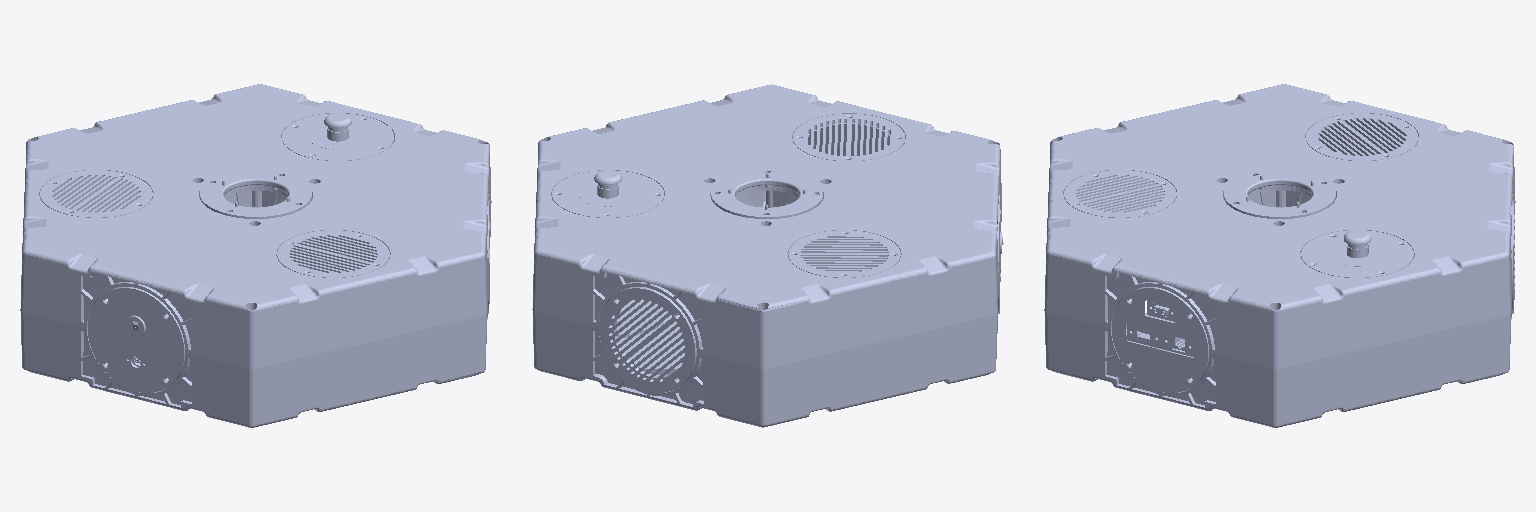
robot.urdf — opendog:
<robot name="opendog">

<gazebo>
  <plugin name="gazebo_ros_control" filename="libgazebo_ros_control.so">
   <robotNamespace>/opendog</robotNamespace>
  </plugin>
</gazebo>

  <link name="base_link">
    <inertial>
      <origin xyz="0.0146925753707255 -2.32783997689001E-07 -0.0620003566767632" rpy="0 0 0" />
      <mass value="7.50050303907628" />
      <inertia
        ixx="0.0329067626307138"
        ixy="0.0145256752484318"
        ixz="-0.00262898937356677"
        iyy="0.324694201481025"
        iyz="8.6440436464913E-08"
        izz="0.3401479131296" />
    </inertial>
    <visual>
      <origin xyz="0 0 0" rpy="0 0 0" />
      <geometry>
        <mesh filename="meshes/base_link.STL" />
      </geometry>
      <material name="">
        <color rgba="0.792156862745098 0.819607843137255 0.933333333333333 1" />
      </material>
    </visual>
    <collision>
      <origin
        xyz="0 0 0"
        rpy="0 0 0" />
      <geometry>
        <mesh filename="meshes/base_link.STL" />
      </geometry>
    </collision>
  </link>

  <link name="lf_hip">
    <inertial>
      <origin xyz="0.206139391007352 0.0113727026365967 -0.0186282798260052" rpy="0 0 0" />
      <mass value="1.29407279885193" />
      <inertia
        ixx="0.00300672363695354"
        ixy="0.000279956457563162"
        ixz="0.00219380954236559"
        iyy="0.00473624583525706"
        iyz="-0.000278492304960671"
        izz="0.00444577132964834" />
    </inertial>
    <visual>
      <origin xyz="0 0 0" rpy="0 0 0" />
      <geometry>
        <mesh filename="meshes/lf_hip.STL" />
      </geometry>
      <material name="">
        <color rgba="0.792156862745098 0.819607843137255 0.933333333333333 1" />
      </material>
    </visual>
    <collision>
      <origin xyz="0 0 0" rpy="0 0 0" />
      <geometry>
        <mesh filename="meshes/lf_hip.STL" />
      </geometry>
    </collision>
  </link>
  
  <joint name="lf_hip_joint" type="revolute">
    <origin
      xyz="0.12725 0.11015 -0.0402500002980233"
      rpy="-0.0312716864214877 -2.31194431024223E-16 0" />
    <parent link="base_link" />
    <child link="lf_hip" />
    <axis xyz="1 0 0" />
    <limit effort="30" velocity="1.0" lower="-0.2" upper="0.2" />
    <dynamics damping="0.7" friction="1.0" />
  </joint>

  <link name="lf_upperleg">
    <inertial>
      <origin xyz="-0.14026071186531 -0.145897350328308 -0.0866287296834724" rpy="0 0 0" />
      <mass value="1.99709298869724" />
      <inertia
        ixx="0.0178522819140482"
        ixy="-0.000417486136867743"
        ixz="-0.000174817808114832"
        iyy="0.00725617205054363"
        iyz="0.000753747543548694"
        izz="0.0140200357809471" />
    </inertial>
    <visual>
      <origin xyz="0 0 0" rpy="0 0 0" />
      <geometry>
        <mesh filename="meshes/lf_upperleg.STL" />
      </geometry>
      <material name="">
        <color rgba="0.792156862745098 0.819607843137255 0.933333333333333 1" />
      </material>
    </visual>
    <collision>
      <origin xyz="0 0 0" rpy="0 0 0" />
      <geometry>
        <mesh filename="meshes/lf_upperleg.STL" />
      </geometry>
    </collision>
  </link>
  
  <joint name="lf_upperleg_joint" type="revolute">
    <origin xyz="0.1875 -0.0067843 0" rpy="0.53639 5.5511E-16 -1.5708" />
    <parent link="lf_hip" />
    <child link="lf_upperleg" />
    <axis xyz="-1 0 0" />
    <dynamics damping="1.0" friction="1.0"/>
    <limit effort="30" velocity="1.0" lower="-0.2" upper="0.2" />
    <dynamics damping="0.7" friction="1.0" />
  </joint>

  <link name="lf_lowerleg">
    <inertial>
      <origin xyz="-0.0841961666836097 -0.111586779603519 -0.103991209798406" rpy="0 0 0" />
      <mass value="0.517872437395086" />
      <inertia
        ixx="0.00480929241655381"
        ixy="3.22137831183176E-05"
        ixz="2.82581039098233E-05"
        iyy="0.00230896942537742"
        iyz="-0.00238100033014549"
        izz="0.00250151457928357" />
    </inertial>
    <visual>
      <origin xyz="0 0 0" rpy="0 0 0" />
      <geometry>
        <mesh filename="meshes/lf_lowerleg.STL" />
      </geometry>
      <material name="">
        <color rgba="0.792156862745098 0.819607843137255 0.933333333333333 1" />
      </material>
    </visual>
    <collision>
      <origin xyz="0 0 0" rpy="0 0 0" />
      <geometry>
        <mesh filename="meshes/lf_lowerleg.STL" />
      </geometry>
       <surface>
        <friction>
          <ode>
            <mu>100.0</mu>
            <mu2>100.0</mu2>
          </ode>
        </friction>
      </surface>
    </collision>
  </link>

  <joint name="lf_lowerleg_joint" type="revolute">
    <origin xyz="-0.036327 -0.31067 -0.17972" rpy="1.2469 -6.6613E-16 1.36E-15" />
    <parent link="lf_upperleg" />
    <child link="lf_lowerleg" />
    <axis xyz="-1 0 0" />
    <limit effort="30" velocity="1.0" lower="-0.2" upper="0.2" />
    <dynamics damping="0.7" friction="1.0" />
  </joint>

  <link name="rf_hip">
    <inertial>
      <origin xyz="0.147048151306843 -0.0117894282365432 -0.0186949790750277" rpy="0 0 0" />
      <mass value="1.31260778257106" />
      <inertia
        ixx="0.00297889838902065"
        ixy="0.000632756157402181"
        ixz="-0.00237042295251855"
        iyy="0.00528682887814262"
        iyz="0.00027007218401832"
        izz="0.00504189542831131" />
    </inertial>
    <visual>
      <origin xyz="0 0 0" rpy="0 0 0" />
      <geometry>
        <mesh filename="meshes/rf_hip.STL" />
      </geometry>
      <material name="">
        <color rgba="0.792156862745098 0.819607843137255 0.933333333333333 1" />
      </material>
    </visual>
    <collision>
      <origin xyz="0 0 0" rpy="0 0 0" />
      <geometry>
        <mesh filename="meshes/rf_hip.STL" />
      </geometry>
    </collision>
  </link>

  <joint name="rf_hip_joint" type="revolute">
    <origin xyz="0.12725 -0.11015 -0.04025" rpy="-0.0024962 -2.3119E-16 0" />
    <parent link="base_link" />
    <child link="rf_hip" />
    <axis xyz="1 0 0" />
    <limit effort="30" velocity="1.0" lower="-0.2" upper="0.2" />
    <dynamics damping="0.7" friction="1.0" />
  </joint>

  <link name="rf_upperleg">
    <inertial>
      <origin xyz="-0.133628467398785 -0.162488031463387 0.0486169366921988" rpy="0 0 0" />
      <mass value="1.97849427273776" />
      <inertia
        ixx="0.0177862556152254"
        ixy="-0.000449816128990764"
        ixz="6.84609806285059E-05"
        iyy="0.0079887226695027"
        iyz="-0.00227974326372488"
        izz="0.0131967613985927" />
    </inertial>
    <visual>
      <origin xyz="0 0 0" rpy="0 0 0" />
      <geometry>
        <mesh filename="meshes/rf_upperleg.STL" />
      </geometry>
      <material name="">
        <color rgba="0.792156862745098 0.819607843137255 0.933333333333333 1" />
      </material>
    </visual>
    <collision>
      <origin xyz="0 0 0" rpy="0 0 0" />
      <geometry>
        <mesh filename="meshes/rf_upperleg.STL" />
      </geometry>
    </collision>
  </link>

  <joint name="rf_upperleg_joint" type="revolute">
    <origin xyz="0.1875 0 0" rpy="2.37324114934713 1.94289029309402E-16 1.5707963267949" />
    <parent link="rf_hip" />
    <child link="rf_upperleg" />
    <axis xyz="1 0 0" />
    <limit effort="30" velocity="1.0" lower="-0.2" upper="0.2" />
    <dynamics damping="0.7" friction="1.0" />
  </joint>

  <link name="rf_lowerleg">
    <inertial>
      <origin xyz="-0.0942678335224335 -0.11438115082609 0.100958934418855" rpy="0 0 0" />
      <mass value="0.517767036542794" />
      <inertia
        ixx="0.00480685472285392"
        ixy="3.29278427633523E-05"
        ixz="-2.73356037554584E-05"
        iyy="0.00217881170361675"
        iyz="0.00237102005421024"
        izz="0.00262923241964085" />
    </inertial>
    <visual>
      <origin xyz="0 0 0" rpy="0 0 0" />
      <geometry>
        <mesh filename="meshes/rf_lowerleg.STL" />
      </geometry>
      <material name="">
        <color rgba="0.792156862745098 0.819607843137255 0.933333333333333 1" />
      </material>
    </visual>
    <collision>
      <origin xyz="0 0 0" rpy="0 0 0" />
      <geometry>
        <mesh filename="meshes/rf_lowerleg.STL" />
      </geometry>
       <surface>
        <friction>
          <ode>
            <mu>100.0</mu>
            <mu2>100.0</mu2>
          </ode>
        </friction>
      </surface>
    </collision>
  </link>

  <joint name="rf_lowerleg_joint" type="revolute">
    <origin xyz="-0.0194699194772098 -0.3449998 0.0989375976332662" rpy="-1.05391222064566 1.11022302462516E-16 4.44089209850063E-16" />
    <parent link="rf_upperleg" />
    <child link="rf_lowerleg" />
    <axis xyz="1 0 0" />
    <limit effort="30" velocity="1.0" lower="-0.2" upper="0.2" />
    <dynamics damping="0.7" friction="1.0" />
  </joint>

  <link name="lb_hip">
    <inertial>
      <origin xyz="-0.1388606089949 0.0113727026302812 -0.0186282798249506" rpy="0 0 0" />
      <mass value="1.2940727989479" />
      <inertia
        ixx="0.00300672363731876"
        ixy="0.000279956457431885"
        ixz="0.00219380954241839"
        iyy="0.00473624583534201"
        iyz="-0.000278492304808429"
        izz="0.00444577133007972" />
    </inertial>
    <visual>
      <origin xyz="0 0 0" rpy="0 0 0" />
      <geometry>
        <mesh filename="meshes/lb_hip.STL" />
      </geometry>
      <material name="">
        <color rgba="0.792156862745098 0.819607843137255 0.933333333333333 1" />
      </material>
    </visual>
    <collision>
      <origin xyz="0 0 0" rpy="0 0 0" />
      <geometry>
        <mesh filename="meshes/lb_hip.STL" />
      </geometry>
    </collision>
  </link>

  <joint name="lb_hip_joint" type="revolute">
    <origin xyz="-0.09275 0.11015 -0.04025" rpy="-0.013144 -2.3119E-16 0" />
    <parent link="base_link" />
    <child link="lb_hip" />
    <axis xyz="1 0 0" />
    <limit effort="30" velocity="1.0" lower="-0.2" upper="0.2" />
    <dynamics damping="0.7" friction="1.0" />
  </joint>

  <link name="lb_upperleg">
    <inertial>
      <origin xyz="-0.155362482214265 -0.162561779303306 -0.0486234661189762" rpy="0 0 0" />
      <mass value="1.99709298565448" />
      <inertia
        ixx="0.0178522818686579"
        ixy="-0.000447434633476266"
        ixz="-6.8250948714299E-05"
        iyy="0.00800967976641392"
        iyz="0.00225765032495757"
        izz="0.0132665280240321" />
    </inertial>
    <visual>
      <origin xyz="0 0 0" rpy="0 0 0" />
      <geometry>
        <mesh filename="meshes/lb_upperleg.STL" />
      </geometry>
      <material name="">
        <color rgba="0.792156862745098 0.819607843137255 0.933333333333333 1" />
      </material>
    </visual>
    <collision>
      <origin xyz="0 0 0" rpy="0 0 0" />
      <geometry>
        <mesh filename="meshes/lb_upperleg.STL" />
      </geometry>
    </collision>
  </link>

  <joint name="lb_upperleg_joint" type="revolute">
    <origin xyz="-0.1575 -0.0218860343925495 0" rpy="0.853532347704987 1.69309011255336E-15 -1.5707963267949" />
    <parent link="lb_hip" />
    <child link="lb_upperleg" />
    <axis xyz="-1 0 0" />
    <limit effort="30" velocity="1.0" lower="-0.2" upper="0.2" />
    <dynamics damping="0.7" friction="1.0" />
  </joint>
  
  <link name="lb_lowerleg">
    <inertial>
      <origin xyz="-0.0929078835580175 -0.122424353782922 -0.0909838234681657" rpy="0 0 0" />
      <mass value="0.51787240839959" />
      <inertia
        ixx="0.00480929178404235"
        ixy="3.51469446486784E-05"
        ixz="2.45137702500061E-05"
        iyy="0.00178682948739438"
        iyz="-0.00230130305704765"
        izz="0.00302365388096736" />
    </inertial>
    <visual>
      <origin xyz="0 0 0" rpy="0 0 0" />
      <geometry>
        <mesh filename="meshes/lb_lowerleg.STL" />
      </geometry>
      <material name="">
        <color rgba="0.792156862745098 0.819607843137255 0.933333333333333 1" />
      </material>
    </visual>
    <collision>
      <origin xyz="0 0 0" rpy="0 0 0" />
      <geometry>
        <mesh filename="meshes/lb_lowerleg.STL" />
      </geometry>
       <surface>
        <friction>
          <ode>
            <mu>100.0</mu>
            <mu2>100.0</mu2>
          </ode>
        </friction>
      </surface>
    </collision>
  </link>

  <joint name="lb_lowerleg_joint" type="revolute">
    <origin xyz="-0.0427168001472368 -0.3449998 -0.0989375976332639" rpy="1.02808696809058 1.17961196366423E-15 0" />
    <parent link="lb_upperleg" />
    <child link="lb_lowerleg" />
    <axis xyz="-1 0 0" />
    <limit effort="30" velocity="1.0" lower="-0.2" upper="0.2" />
    <dynamics damping="0.7" friction="1.0" />
  </joint>

  <link name="rb_hip">
    <inertial>
      <origin xyz="-0.197951848727426 -0.011789428219475 -0.0186949790745794" rpy="0 0 0" />
      <mass value="1.31260778161674" />
      <inertia
        ixx="0.00297889838847175"
        ixy="0.000632756156394369"
        ixz="-0.00237042295242676"
        iyy="0.0052868288763741"
        iyz="0.000270072183992474"
        izz="0.00504189542537898" />
    </inertial>
    <visual>
      <origin xyz="0 0 0" rpy="0 0 0" />
      <geometry>
        <mesh
          filename="meshes/rb_hip.STL" />
      </geometry>
      <material name="">
        <color rgba="0.792156862745098 0.819607843137255 0.933333333333333 1" />
      </material>
    </visual>
    <collision>
      <origin xyz="0 0 0" rpy="0 0 0" />
      <geometry>
        <mesh filename="meshes/rb_hip.STL" />
      </geometry>
    </collision>
  </link>

  <joint name="rb_hip_joint" type="revolute">
    <origin xyz="-0.09275 -0.11015 -0.0402500002980231" rpy="0.0264641395628229 -2.31194431024223E-16 0" />
    <parent link="base_link" />
    <child link="rb_hip" />
    <axis xyz="1 0 0" />
    <limit effort="30" velocity="1.0" lower="-0.2" upper="0.2" />
    <dynamics damping="0.7" friction="1.0" />
  </joint>

  <link name="rb_upperleg">
    <inertial>
      <origin xyz="-0.133628467244866 -0.162488031755644 0.0486169350227676" rpy="0 0 0" />
      <mass value="1.97849425051924" />
      <inertia
        ixx="0.0177862553816508"
        ixy="-0.000449816152751435"
        ixz="6.84610936050734E-05"
        iyy="0.00798872258305596"
        iyz="-0.00227974318574354"
        izz="0.0131967612321745" />
    </inertial>
    <visual>
      <origin xyz="0 0 0" rpy="0 0 0" />
      <geometry>
        <mesh filename="meshes/rb_upperleg.STL" />
      </geometry>
      <material name="">
        <color rgba="0.792156862745098 0.819607843137255 0.933333333333333 1" />
      </material>
    </visual>
    <collision>
      <origin xyz="0 0 0" rpy="0 0 0" />
      <geometry>
        <mesh filename="meshes/rb_upperleg.STL" />
      </geometry>
    </collision>
  </link>

  <joint name="rb_upperleg_joint" type="revolute">
    <origin xyz="-0.1575 0 0" rpy="2.21660126749357 1.97064586870965E-15 1.5707963267949" />
    <parent link="rb_hip" />
    <child link="rb_upperleg" />
    <axis xyz="1 0 0" />
    <limit effort="30" velocity="1.0" lower="-0.2" upper="0.2" />
    <dynamics damping="0.7" friction="1.0" />
  </joint>

  <link name="rb_lowerleg">
    <inertial>
      <origin xyz="-0.106105013771209 -0.121605431885754 0.092129655679019" rpy="0 0 0" />
      <mass value="0.517767043602124" />
      <inertia
        ixx="0.00480685478586608"
        ixy="3.48785418068089E-05"
        ixz="-2.47987883971276E-05"
        iyy="0.00182797294270112"
        iyz="0.00231097886469285"
        izz="0.00298007124712522" />
    </inertial>
    <visual>
      <origin xyz="0 0 0" rpy="0 0 0" />
      <geometry>
        <mesh filename="meshes/rb_lowerleg.STL" />
      </geometry>
      <material name="">
        <color rgba="0.792156862745098 0.819607843137255 0.933333333333333 1" />
      </material>
    </visual>
    <collision>
      <origin xyz="0 0 0" rpy="0 0 0" />
      <geometry>
        <mesh filename="meshes/rb_lowerleg.STL" />
      </geometry>
       <surface>
        <friction>
          <ode>
            <mu>100.0</mu>
            <mu2>100.0</mu2>
          </ode>
        </friction>
      </surface>
    </collision>
  </link>

  <joint name="rb_lowerleg_joint" type="revolute">
    <origin xyz="-0.00763273689589838 -0.344999799999999 0.0989375976332641" rpy="-0.978531986560699 -1.70696790036118E-15 -1.22124532708767E-15" />
    <parent link="rb_upperleg" />
    <child link="rb_lowerleg" />
    <axis xyz="1 0 0" />
    <limit effort="30" velocity="1.0" lower="-0.2" upper="0.2" />
    <dynamics damping="0.7" friction="1.0" />
  </joint>

<!-- Transmissions for gazebo implementation -->
<transmission name="lb_hip_trans">
  <type>transmission_interface/SimpleTransmission</type>
  <joint name="lb_hip_joint">
    <hardwareInterface>hardware_interface/EffortJointInterface</hardwareInterface>
  </joint>
  <actuator name="lb_hip_motor">
    <mechanicalReduction>1</mechanicalReduction>
    <hardwareInterface>hardware_interface/EffortJointInterface</hardwareInterface>
  </actuator>
</transmission>
<transmission name="lb_upperleg_trans">
  <type>transmission_interface/SimpleTransmission</type>
  <joint name="lb_upperleg_joint">
    <hardwareInterface>hardware_interface/EffortJointInterface</hardwareInterface>
  </joint>
  <actuator name="lb_upperleg_motor">
    <mechanicalReduction>1</mechanicalReduction>
    <hardwareInterface>hardware_interface/EffortJointInterface</hardwareInterface>
  </actuator>
</transmission>
<transmission name="lb_lowerleg_trans">
  <type>transmission_interface/SimpleTransmission</type>
  <joint name="lb_lowerleg_joint">
    <hardwareInterface>hardware_interface/EffortJointInterface</hardwareInterface>
  </joint>
  <actuator name="lb_lowerleg_motor">
    <mechanicalReduction>1</mechanicalReduction>
    <hardwareInterface>hardware_interface/EffortJointInterface</hardwareInterface>
  </actuator>
</transmission>

<transmission name="lf_hip_trans">
  <type>transmission_interface/SimpleTransmission</type>
  <joint name="lf_hip_joint">
    <hardwareInterface>hardware_interface/EffortJointInterface</hardwareInterface>
  </joint>
  <actuator name="lf_hip_motor">
    <mechanicalReduction>1</mechanicalReduction>
    <hardwareInterface>hardware_interface/EffortJointInterface</hardwareInterface>
  </actuator>
</transmission>
<transmission name="lf_upperleg_trans">
  <type>transmission_interface/SimpleTransmission</type>
  <joint name="lf_upperleg_joint">
    <hardwareInterface>hardware_interface/EffortJointInterface</hardwareInterface>
  </joint>
  <actuator name="lf_upperleg_motor">
    <mechanicalReduction>1</mechanicalReduction>
    <hardwareInterface>hardware_interface/EffortJointInterface</hardwareInterface>
  </actuator>
</transmission>
<transmission name="lf_lowerleg_trans">
  <type>transmission_interface/SimpleTransmission</type>
  <joint name="lf_lowerleg_joint">
    <hardwareInterface>hardware_interface/EffortJointInterface</hardwareInterface>
  </joint>
  <actuator name="lf_lowerleg_motor">
    <mechanicalReduction>1</mechanicalReduction>
    <hardwareInterface>hardware_interface/EffortJointInterface</hardwareInterface>
  </actuator>
</transmission>

<transmission name="rb_hip_trans">
  <type>transmission_interface/SimpleTransmission</type>
  <joint name="rb_hip_joint">
    <hardwareInterface>hardware_interface/EffortJointInterface</hardwareInterface>
  </joint>
  <actuator name="rb_hip_motor">
    <mechanicalReduction>1</mechanicalReduction>
    <hardwareInterface>hardware_interface/EffortJointInterface</hardwareInterface>
  </actuator>
</transmission>
<transmission name="rb_upperleg_trans">
  <type>transmission_interface/SimpleTransmission</type>
  <joint name="rb_upperleg_joint">
    <hardwareInterface>hardware_interface/EffortJointInterface</hardwareInterface>
  </joint>
  <actuator name="rb_upperleg_motor">
    <mechanicalReduction>1</mechanicalReduction>
    <hardwareInterface>hardware_interface/EffortJointInterface</hardwareInterface>
  </actuator>
</transmission>
<transmission name="rb_lowerleg_trans">
  <type>transmission_interface/SimpleTransmission</type>
  <joint name="rb_lowerleg_joint">
    <hardwareInterface>hardware_interface/EffortJointInterface</hardwareInterface>
  </joint>
  <actuator name="rb_lowerleg_motor">
    <mechanicalReduction>1</mechanicalReduction>
    <hardwareInterface>hardware_interface/EffortJointInterface</hardwareInterface>
  </actuator>
</transmission>

<transmission name="rf_hip_trans">
  <type>transmission_interface/SimpleTransmission</type>
  <joint name="rf_hip_joint">
    <hardwareInterface>hardware_interface/EffortJointInterface</hardwareInterface>
  </joint>
  <actuator name="rf_hip_motor">
    <mechanicalReduction>1</mechanicalReduction>
    <hardwareInterface>hardware_interface/EffortJointInterface</hardwareInterface>
  </actuator>
</transmission>
<transmission name="rf_upperleg_trans">
  <type>transmission_interface/SimpleTransmission</type>
  <joint name="rf_upperleg_joint">
    <hardwareInterface>hardware_interface/EffortJointInterface</hardwareInterface>
  </joint>
  <actuator name="rf_upperleg_motor">
    <mechanicalReduction>1</mechanicalReduction>
    <hardwareInterface>hardware_interface/EffortJointInterface</hardwareInterface>
  </actuator>
</transmission>
<transmission name="rf_lowerleg_trans">
  <type>transmission_interface/SimpleTransmission</type>
  <joint name="rf_lowerleg_joint">
    <hardwareInterface>hardware_interface/EffortJointInterface</hardwareInterface>
  </joint>
  <actuator name="rf_lowerleg_motor">
    <mechanicalReduction>1</mechanicalReduction>
    <hardwareInterface>hardware_interface/EffortJointInterface</hardwareInterface>
  </actuator>
</transmission>



</robot>

--- Render facts (derived) ---
The picture shows the robot from 3 angles, left to right: view 1: azimuth 30°, elevation 25°; view 2: azimuth 150°, elevation 25°; view 3: azimuth 270°, elevation 25°; orthographic projection.
Model opendog with 13 links and 12 joints (12 revolute), rooted at base_link, posed all joints at 0.
Visible links, largest first — view 1: base_link; view 2: base_link; view 3: base_link.
Link boxes in pixels (x1,y1,x2,y2): base_link: (20,84,491,427); base_link: (532,84,1003,427); base_link: (1044,84,1515,427).
Bounding box of the posed robot: 0.5381 × 0.4719 × 0.157 m (x, y, z).
Meshes: 13 distinct files referenced, 1 mesh visuals loaded (1 binary STL); not drawn: 12 (reference not matched to a file when rendering).